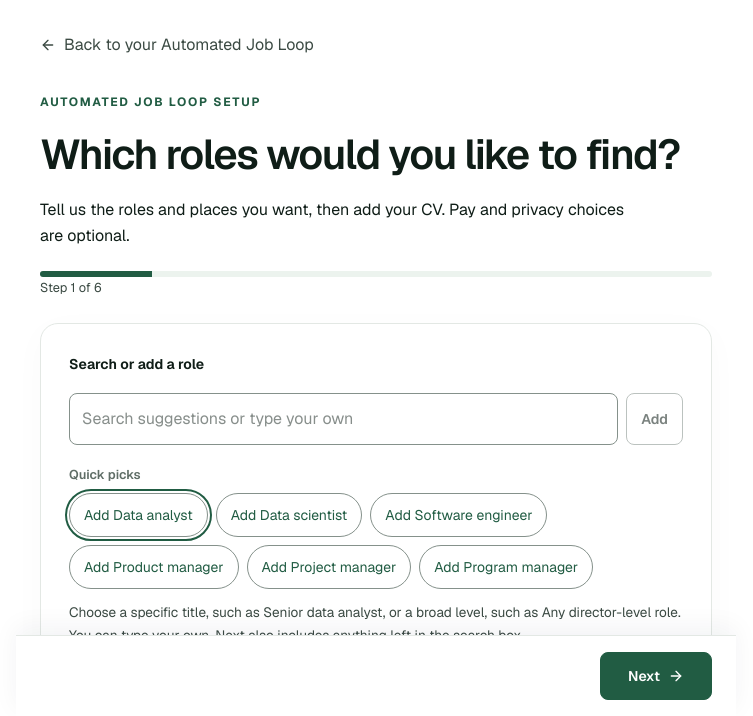
Test: the action appears only when the CV is the one thing missing › an empty CV: the existing message stays, the action is beside it, paste and upload stay available, and there is no dashboard link
Earlier steps of the test are not shown.
Click the button "Next". click: (656, 676)
box: [600,652,712,700]
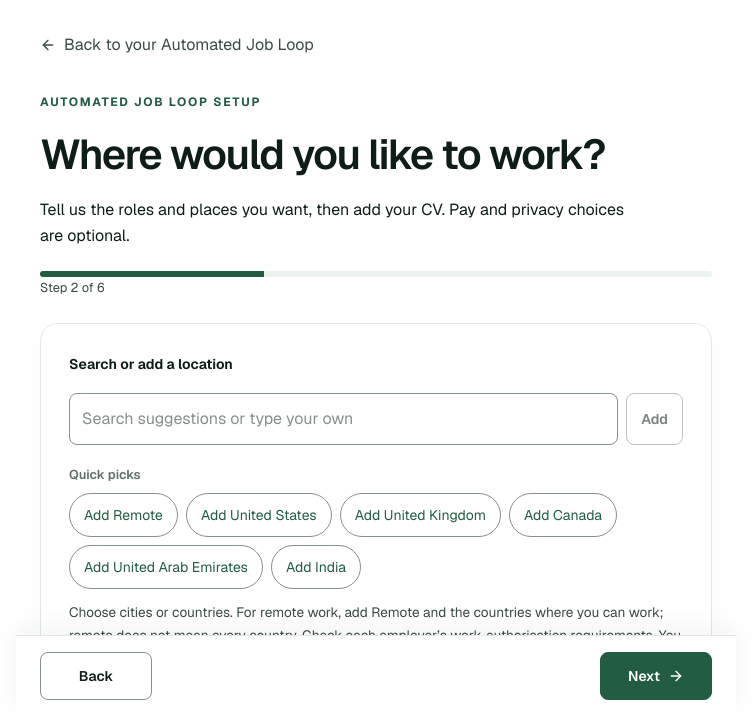
Click the button "Add United States". click: (259, 516)
box: [186,494,332,538]
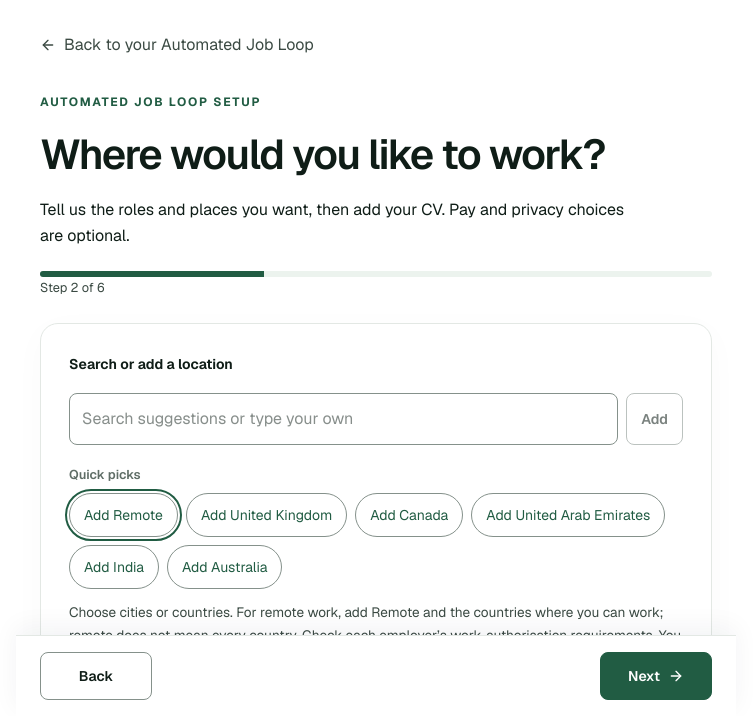
Click the button "Next". click: (656, 676)
box: [600,652,712,700]
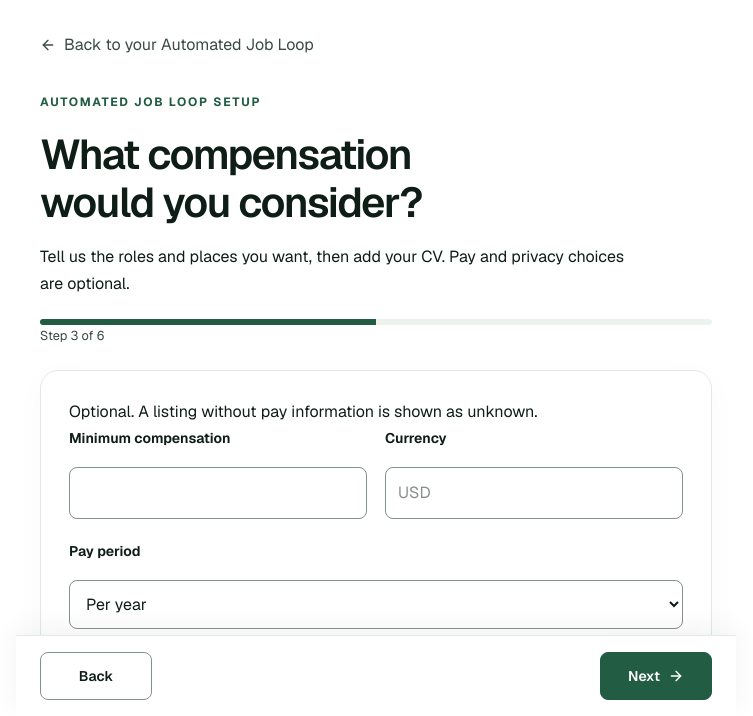
Click the button "Next". click: (656, 676)
box: [600,652,712,700]
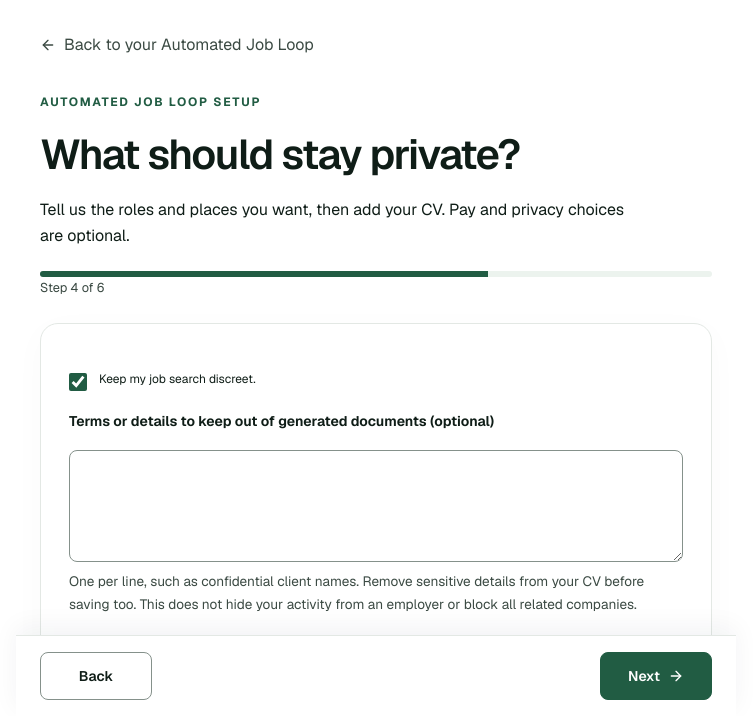
Click the button "Next". click: (656, 676)
box: [600,652,712,700]
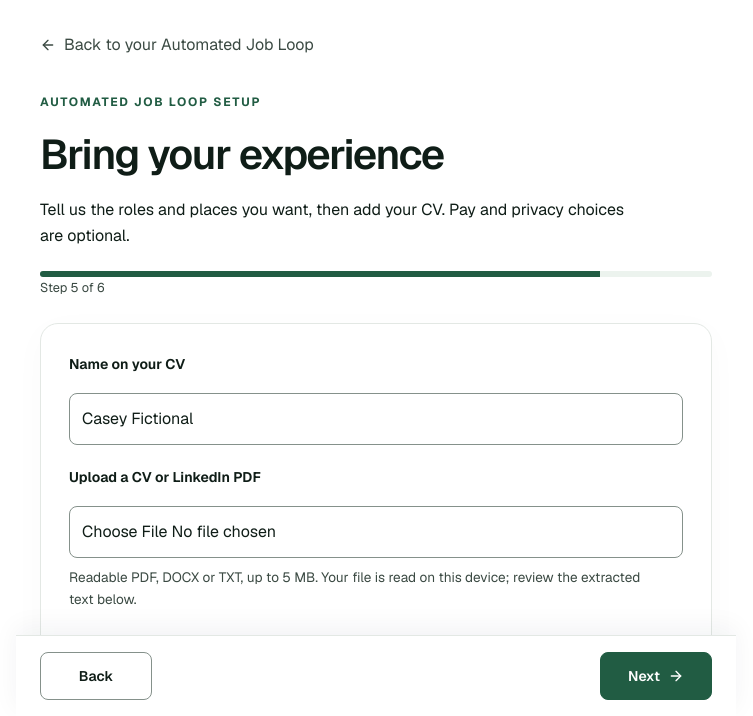
Click the button "Next". click: (656, 676)
box: [600,652,712,700]
(page scrolled)
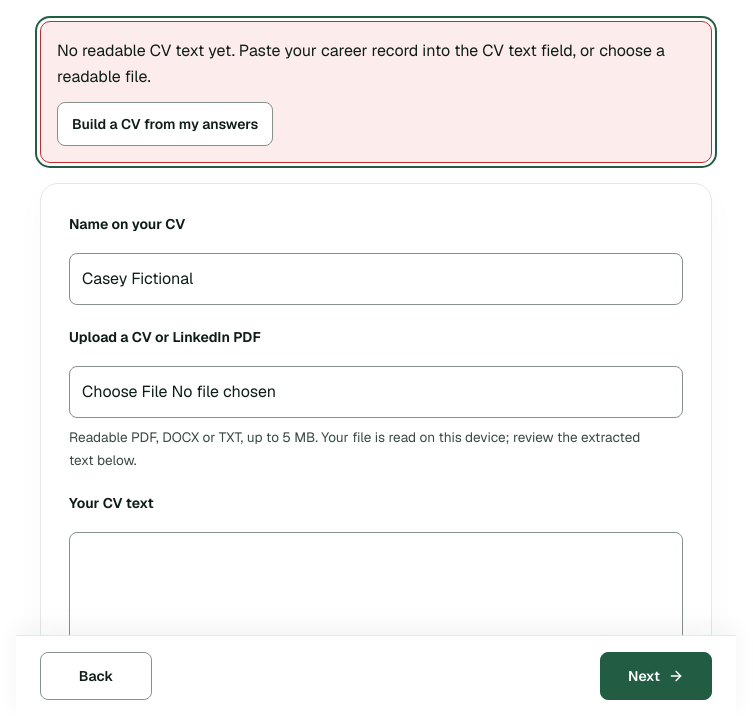
Result: the file field labelled "Upload a CV or LinkedIn PDF" is enabled at [69,366,683,418]
Result: the message shows "No readable CV text yet. Paste your career record into the CV text field, or choose a readable file." at [57,40,665,86]
Result: the button "Build a CV from my answers" is shown at [57,102,273,146]
